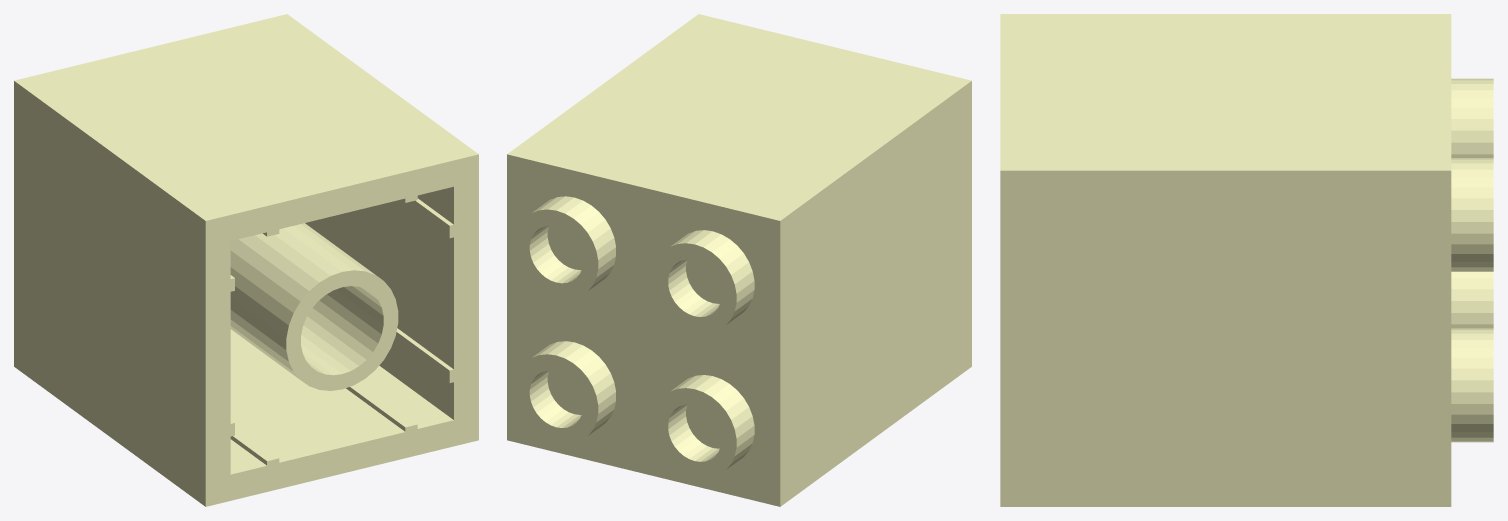
Rendered from duplo5_3.dae.
3 views of the same model, side by side, from view 1: azimuth 30°, elevation 25°; view 2: azimuth 150°, elevation 25°; view 3: azimuth 270°, elevation 25° (orthographic). The views are drawn at different scales.
Visible parts, largest first — view 1: duplo5_019; view 2: duplo5_019; view 3: duplo5_019.
Boxes of the visible parts, x1=… form: duplo5_019: x1=14, y1=14, x2=478, y2=506; duplo5_019: x1=507, y1=14, x2=971, y2=506; duplo5_019: x1=1000, y1=14, x2=1493, y2=506.
Size of the model in its own units: 0.0643 by 0.0855 by 0.0643.
